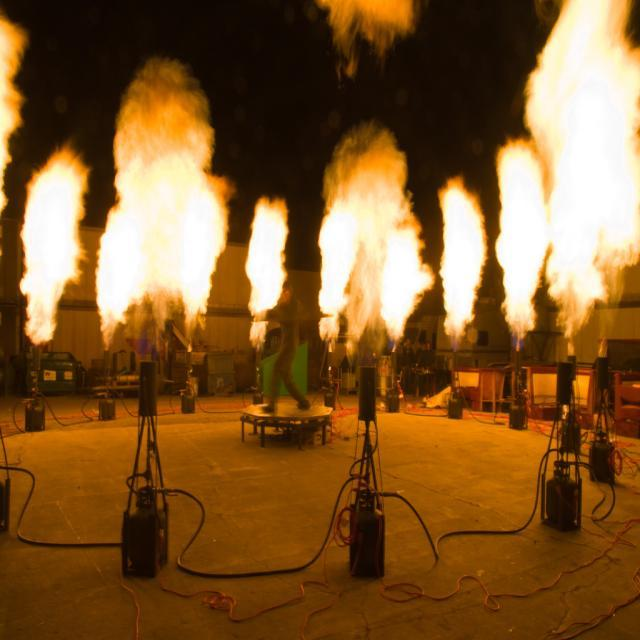Fire: (546, 64, 638, 292), (116, 162, 202, 296), (329, 193, 406, 336), (498, 163, 542, 323), (23, 184, 62, 316), (447, 206, 476, 326), (250, 208, 278, 308)
